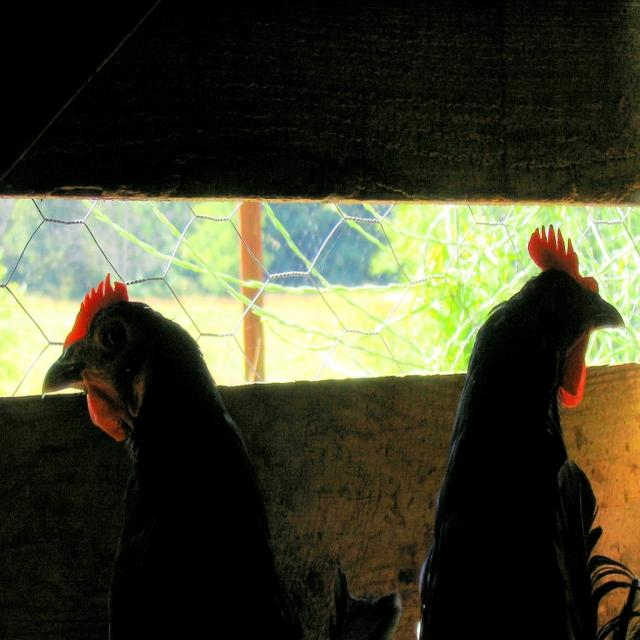Chicken: (38, 270, 400, 640), (436, 227, 630, 621)
